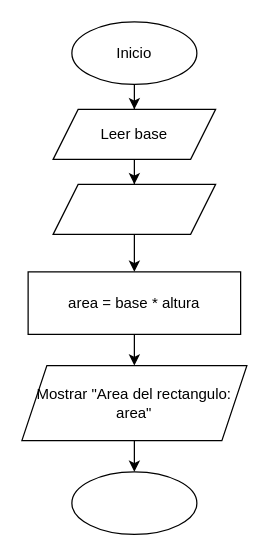
Image size: 269x556. Some labels were removed from this diagram. Each missing label, with the centre of its shape:
"Fin" goes at point (134, 502).
"Leer altura" goes at point (134, 208).
